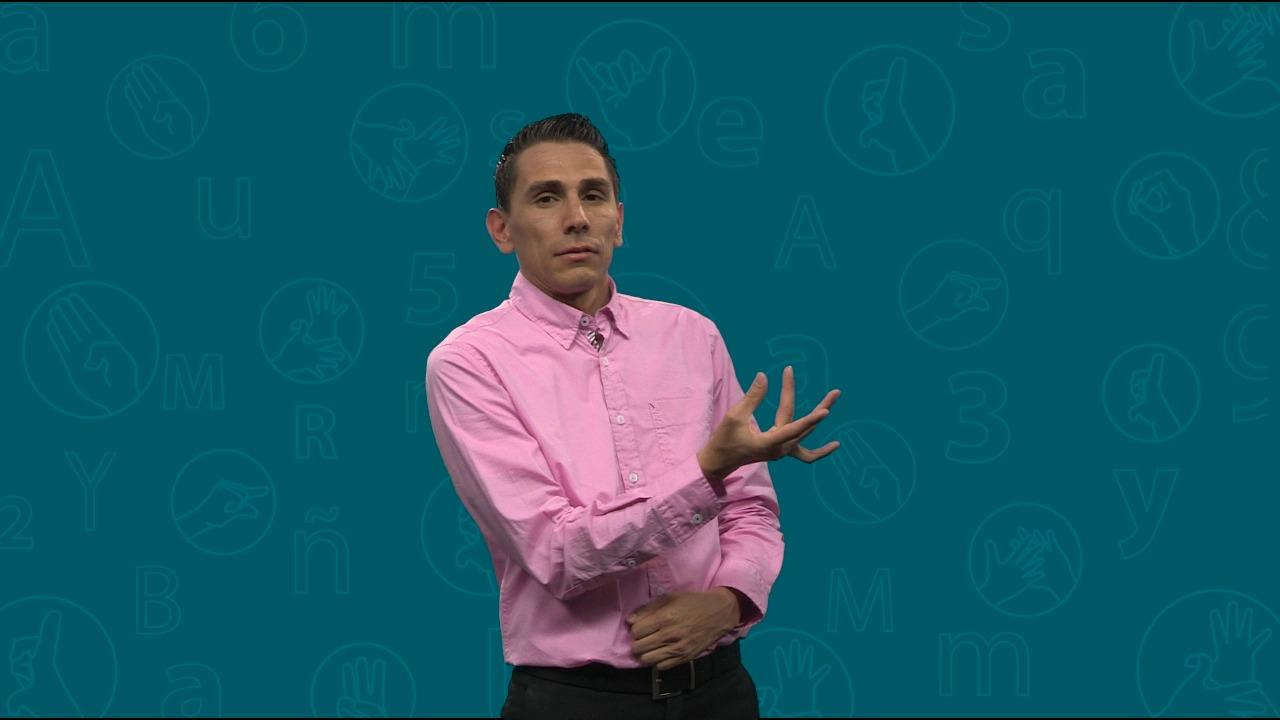Dolor: (362, 82, 911, 680)
